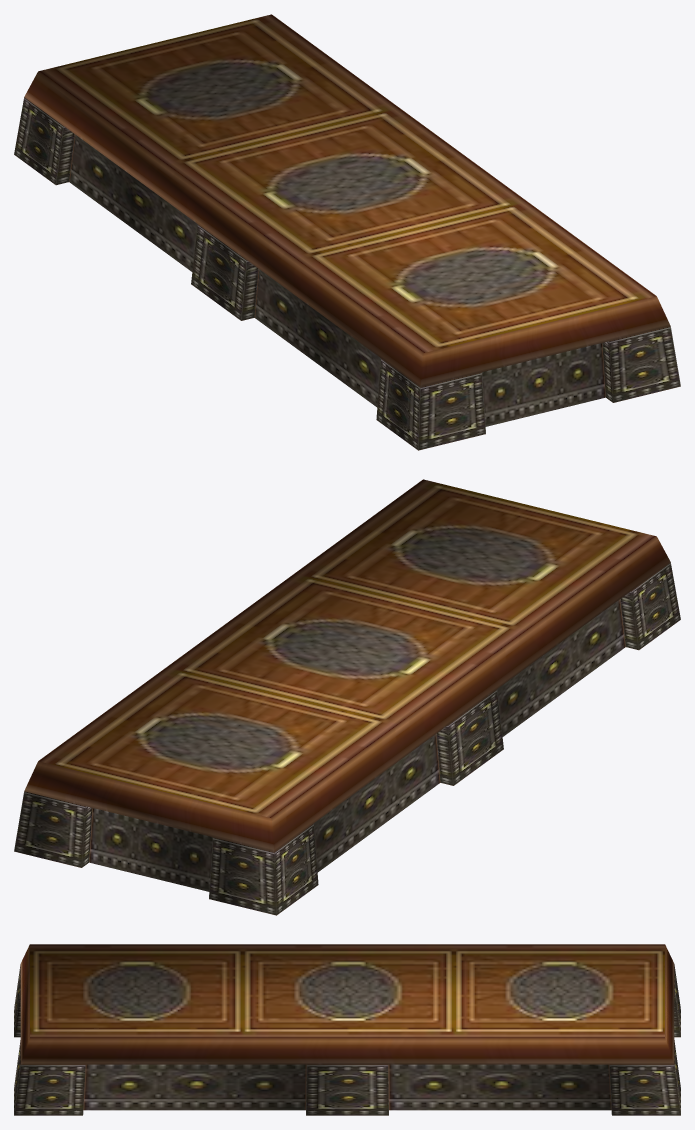
3 renders of one model, top to bottom at view 1: azimuth 30°, elevation 25°; view 2: azimuth 150°, elevation 25°; view 3: azimuth 270°, elevation 25°, orthographic. The views are drawn at different scales.
Size of the model in its own units: 1.58 by 0.498 by 4.21.
Materials: 1 (1 with a texture image).
